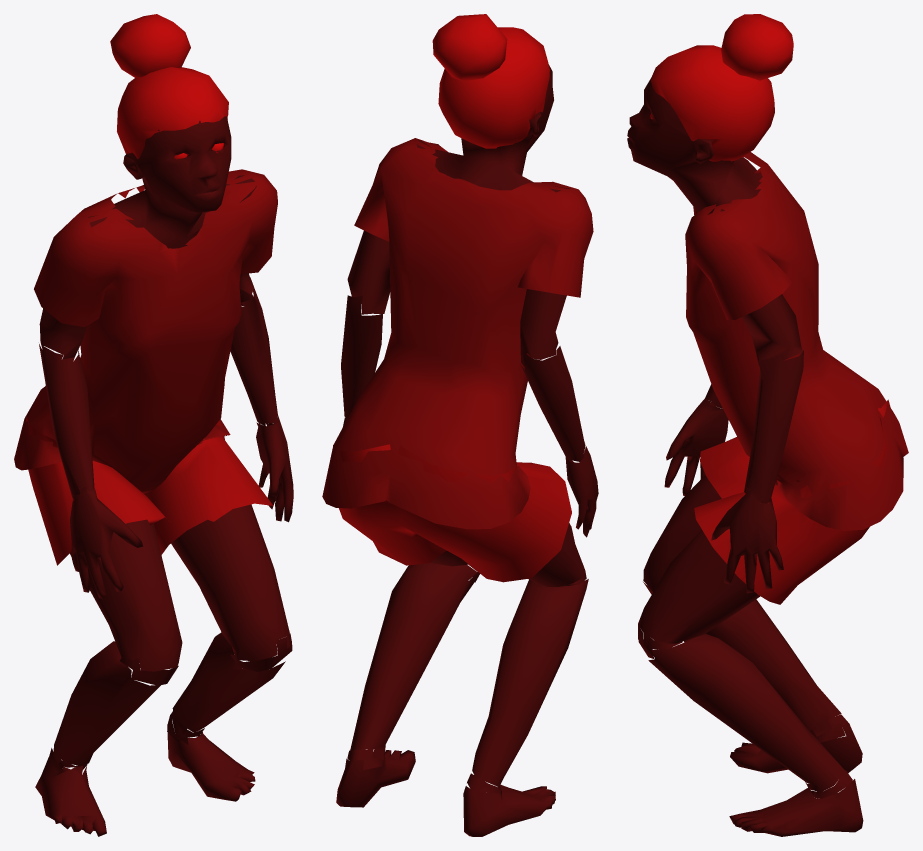
Rendered from crowd_kidCheer.glb.
3 views of the same model, side by side, from view 1: azimuth 30°, elevation 25°; view 2: azimuth 150°, elevation 25°; view 3: azimuth 270°, elevation 25° (orthographic). The views are drawn at different scales.
Parts seen in each view (by area): view 1: kidCheer; view 2: kidCheer; view 3: kidCheer.
Part boxes in pixels (x1,y1,x2,y2): kidCheer: [14, 14, 293, 836]; kidCheer: [322, 14, 598, 836]; kidCheer: [627, 14, 908, 836].
Bounding box in the file's own units: 0.3835 × 1.2 × 0.3944.
